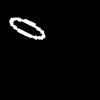chain: (9, 18, 44, 38)
